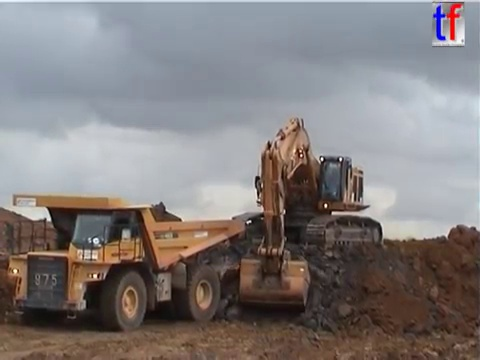excavator: (229, 114, 386, 311)
truck: (1, 190, 248, 334)
